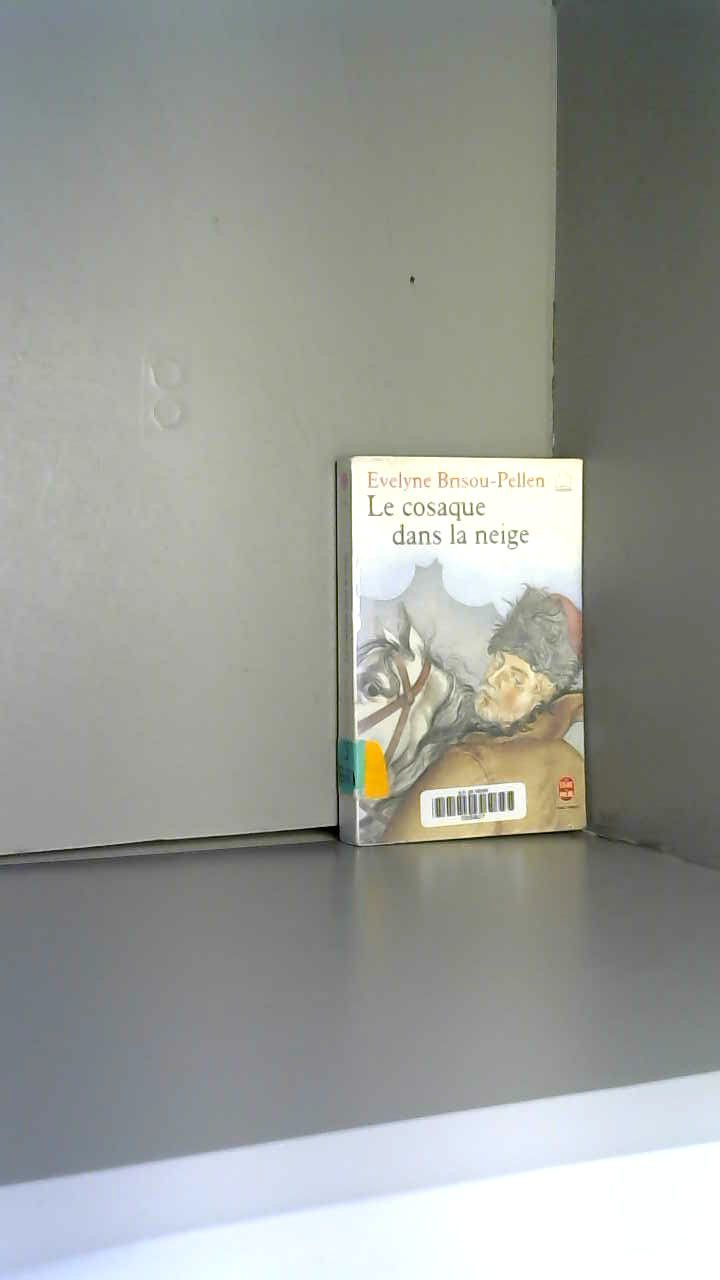book: (315, 434, 606, 870)
